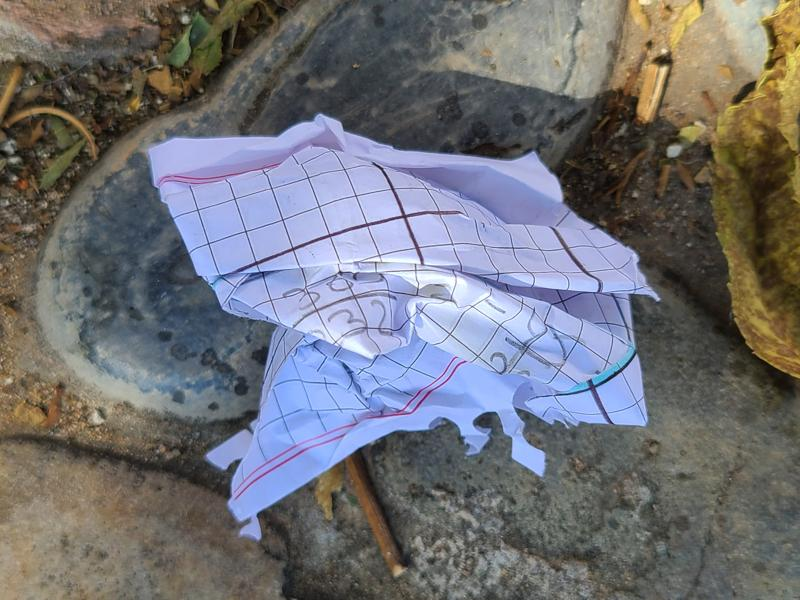papel: (143, 116, 661, 524)
